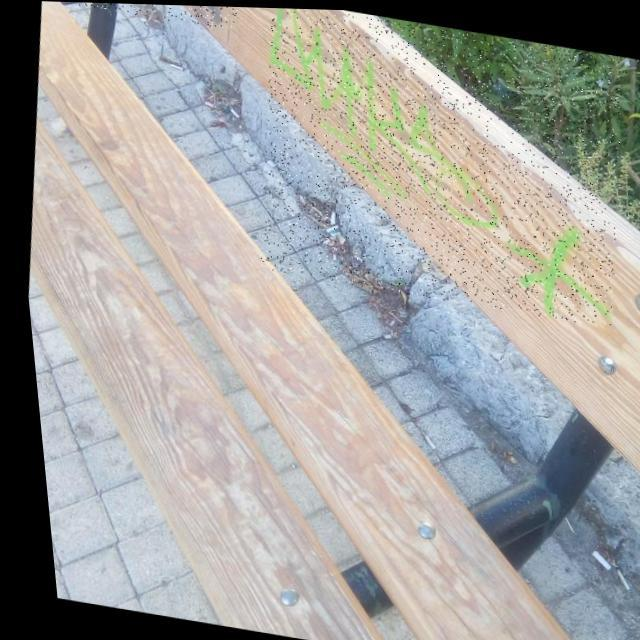-: (235, 6, 640, 326), (76, 2, 242, 30)
